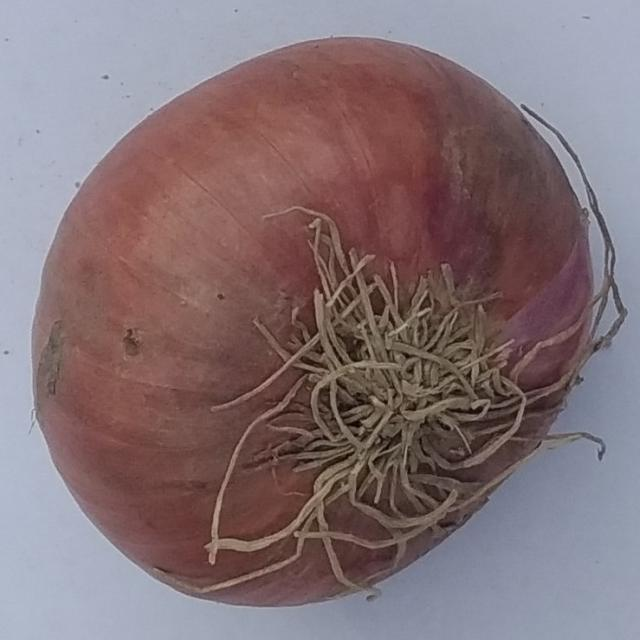onion: (29, 34, 627, 610)
